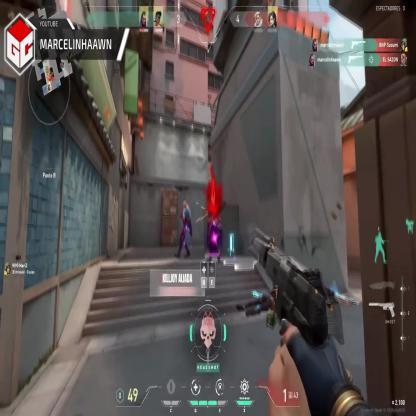enemy: (178, 201, 190, 259)
enemy_head: (183, 200, 188, 210)
